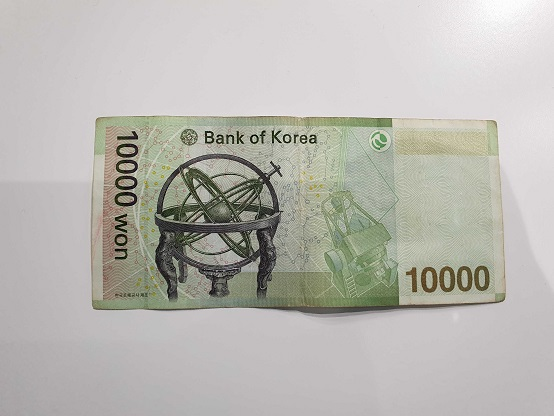10000won: (92, 115, 507, 307)
